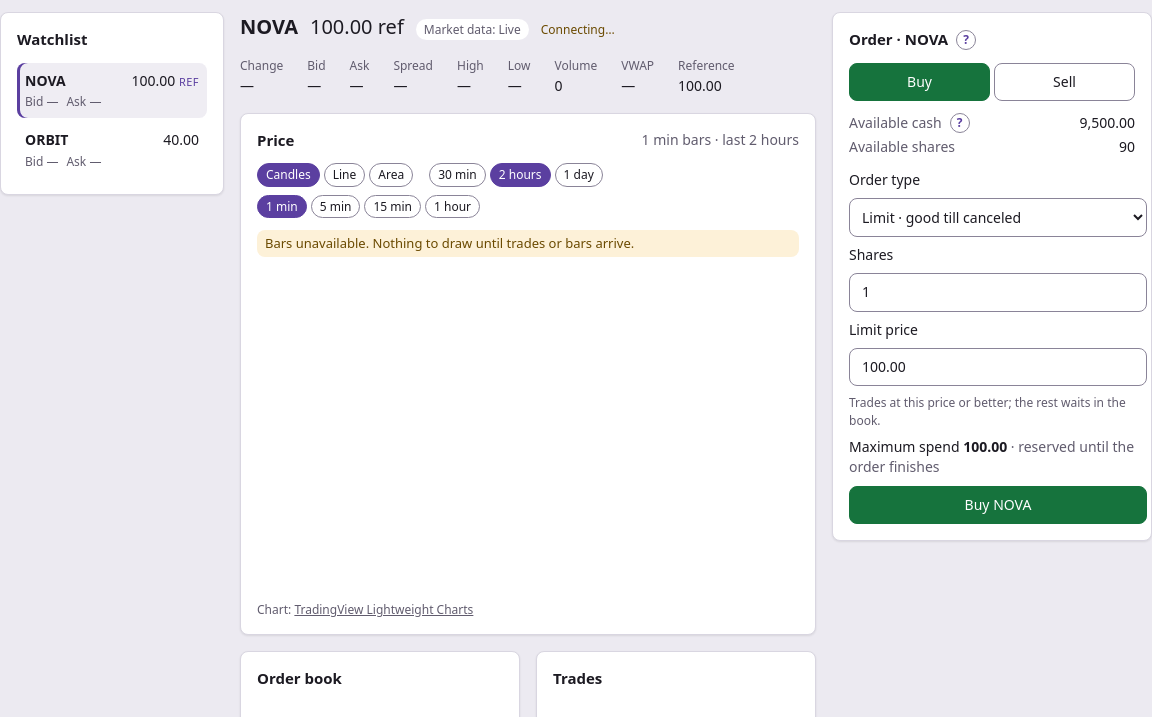
Test case: terminal › keeps an order whose outcome is not known retryable through the close, then says what became of it
The image size is (1152, 717).
Step 1. Click the button "Buy NOVA" → (998, 505), box [849, 486, 1147, 524]
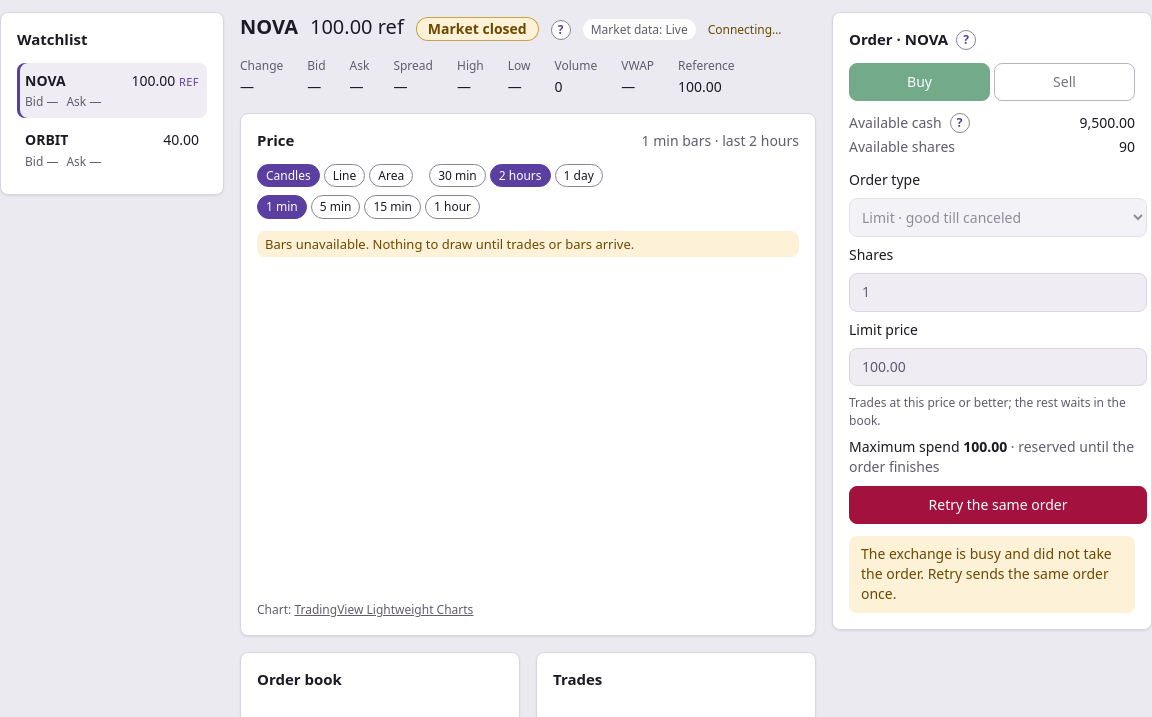
Expected: the element "Order · NOVA" is shown, [832, 12, 1151, 630]
Expected: the text "Market closed" is shown, [416, 17, 539, 41]
Step 2. Click the button "Retry the same order" → (998, 505), box [849, 486, 1147, 524]
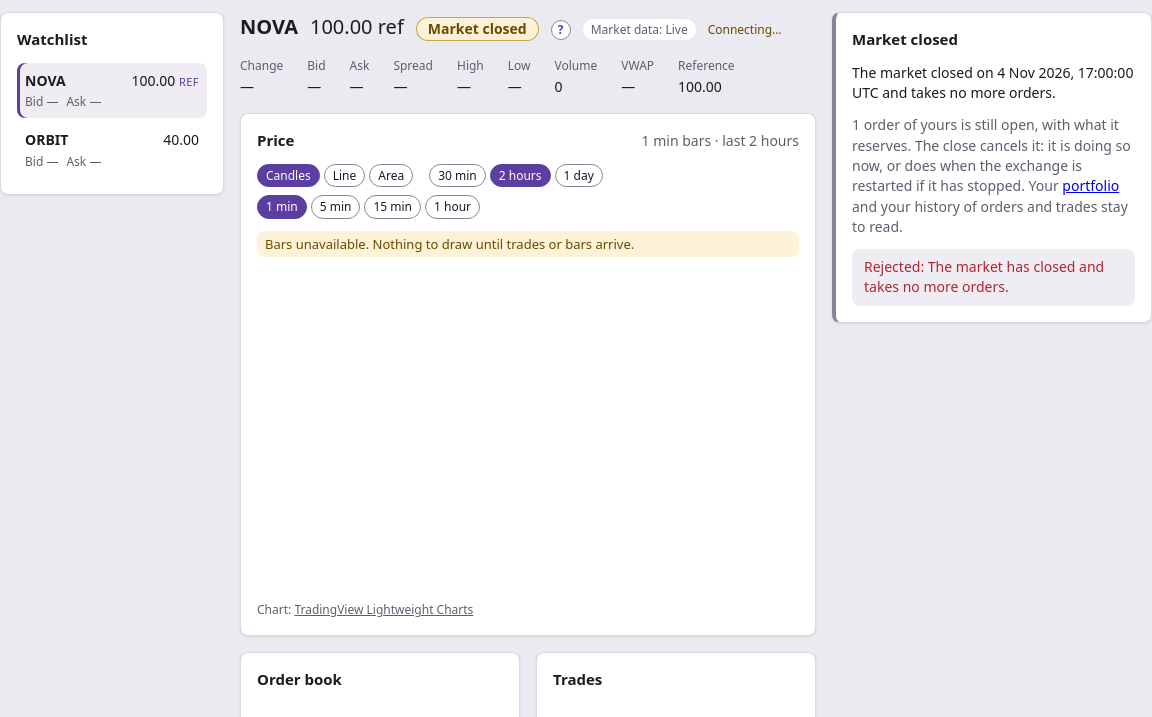
Expected: the message "Rejected: The market has closed and takes no more orders." is shown, [852, 249, 1135, 306]
Expected: the heading "Order · NOVA" is gone
